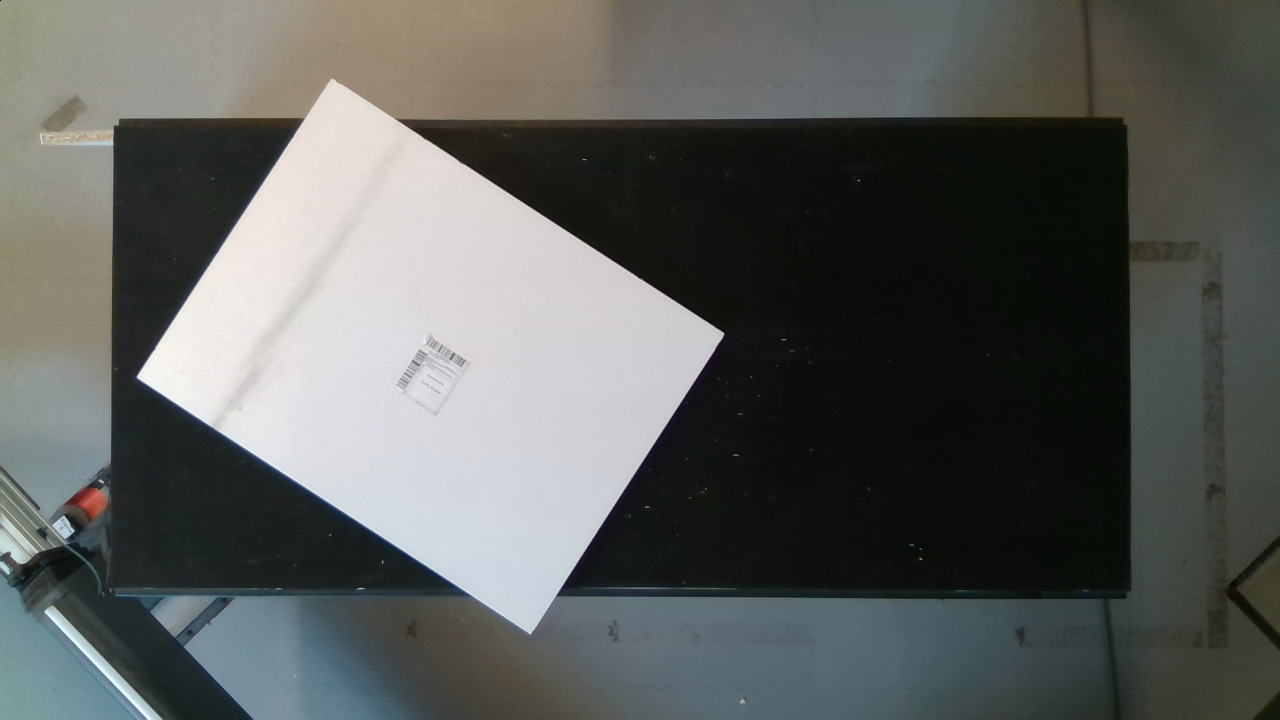barcode: (385, 318, 479, 426)
part2: (130, 61, 737, 649)
